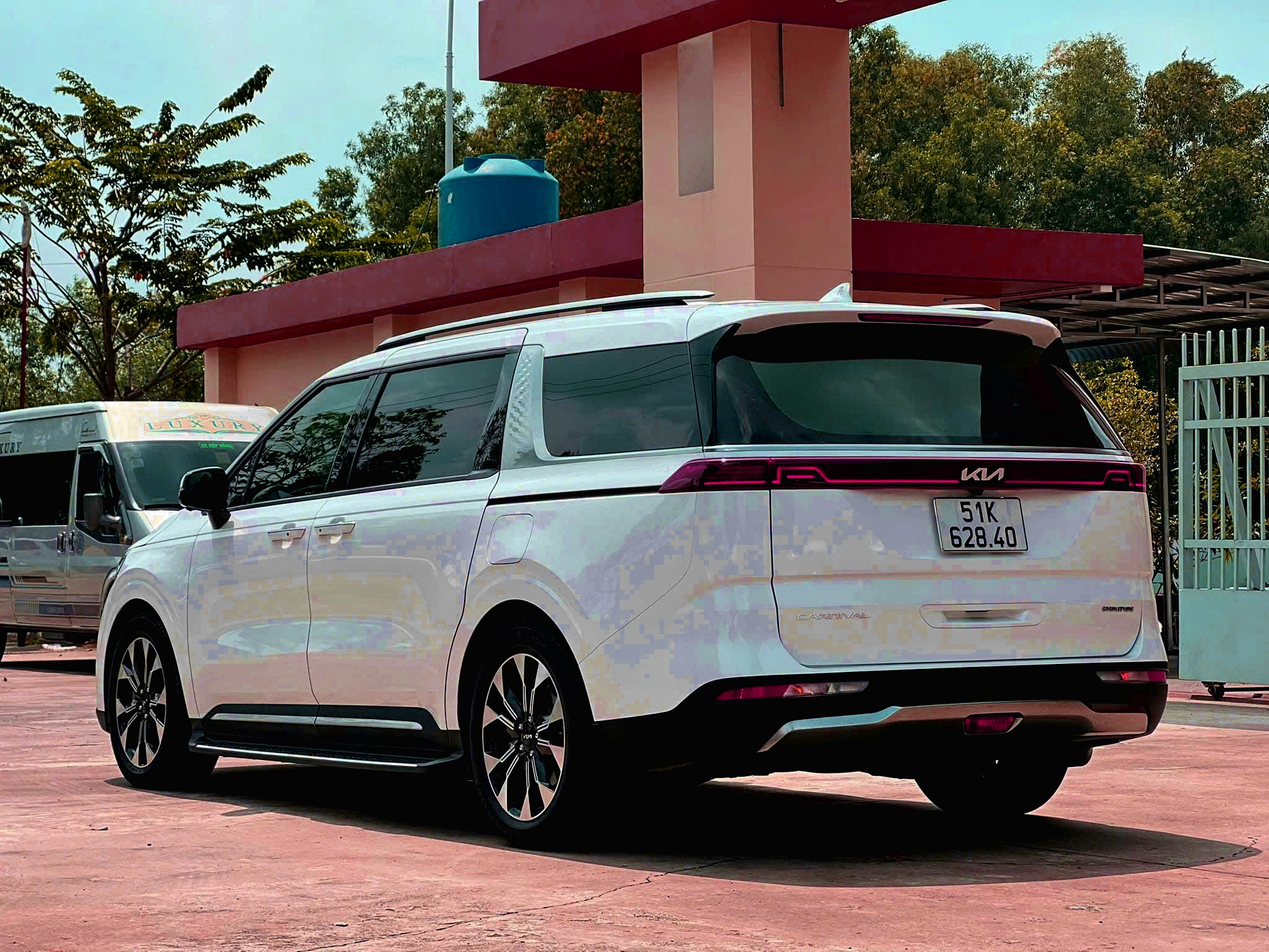Bien-so: (899, 488, 1014, 557)
